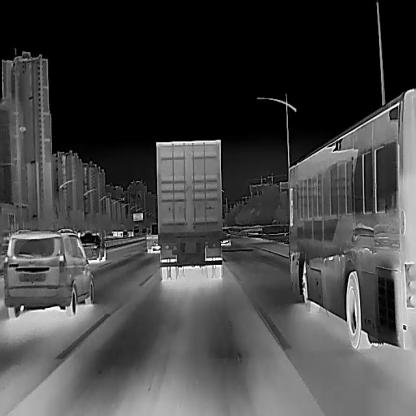bus: (279, 89, 415, 352)
car: (5, 228, 93, 317), (78, 230, 106, 261), (146, 221, 160, 252), (218, 225, 232, 248)
truck: (156, 139, 222, 280)
